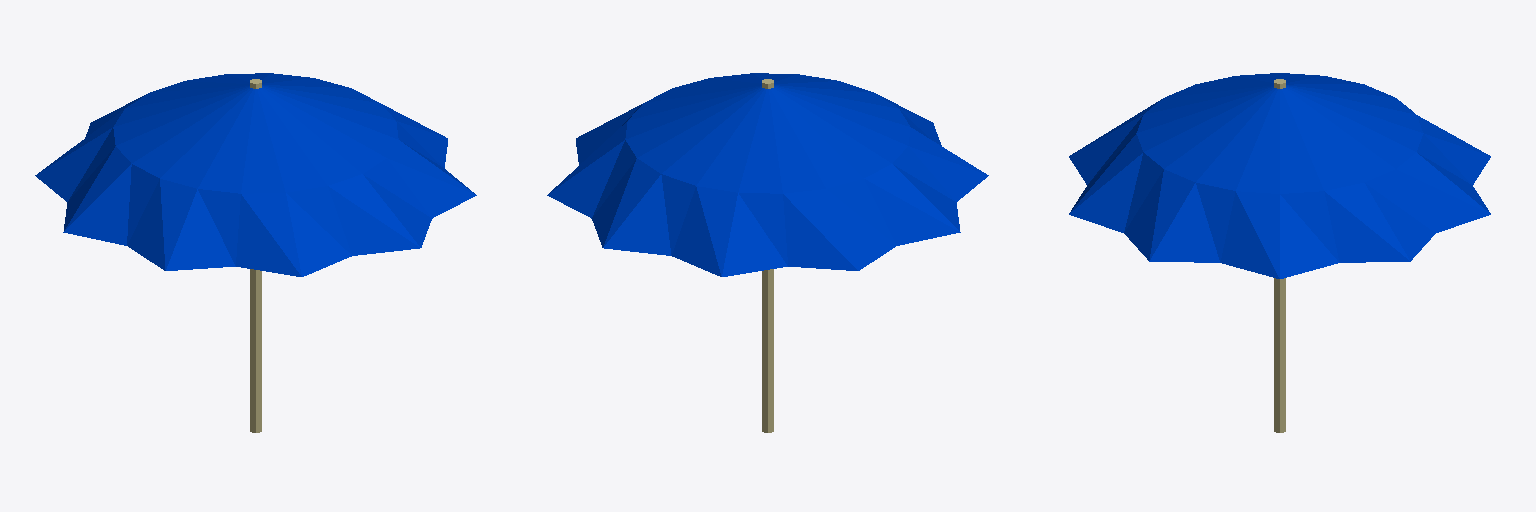
The model's file is NOVELO_UMBRELLA.obj.
3 views of the same model, side by side, from view 1: azimuth 30°, elevation 25°; view 2: azimuth 150°, elevation 25°; view 3: azimuth 270°, elevation 25° (orthographic).
Visible parts, largest first — view 1: Null.1; view 2: Null.1; view 3: Null.1.
Part boxes in pixels (bbox=[...]): Null.1: bbox=[35, 73, 476, 432]; Null.1: bbox=[547, 73, 988, 432]; Null.1: bbox=[1069, 73, 1490, 432].
Size of the model in its own units: 280 by 243 by 266.